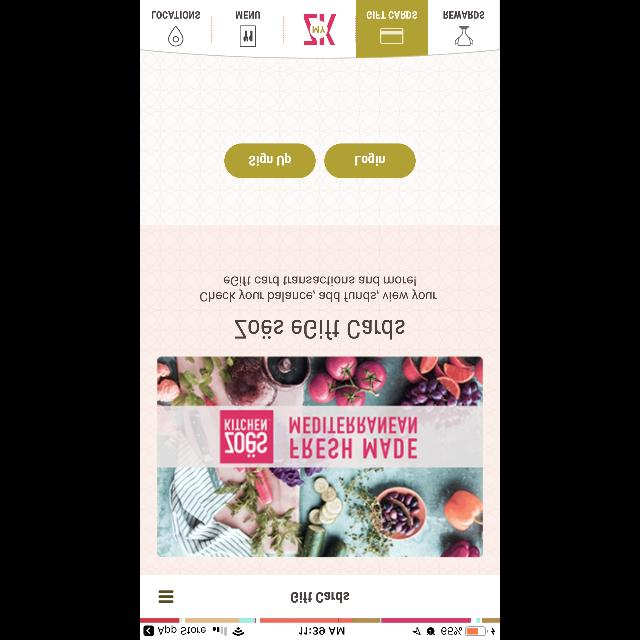icon: (381, 28, 404, 44), (168, 26, 184, 46), (158, 590, 174, 602)
image: (158, 357, 482, 558), (220, 409, 274, 463), (304, 14, 336, 46), (454, 26, 474, 46), (240, 26, 256, 46)
text: (200, 276, 438, 302), (289, 416, 417, 458), (235, 320, 405, 340), (290, 592, 350, 604), (367, 11, 418, 19), (152, 11, 200, 19), (444, 11, 484, 19), (236, 11, 260, 19)
textbutton: (224, 144, 316, 178), (324, 144, 416, 178)
uppertaskbar: (140, 624, 500, 640)
